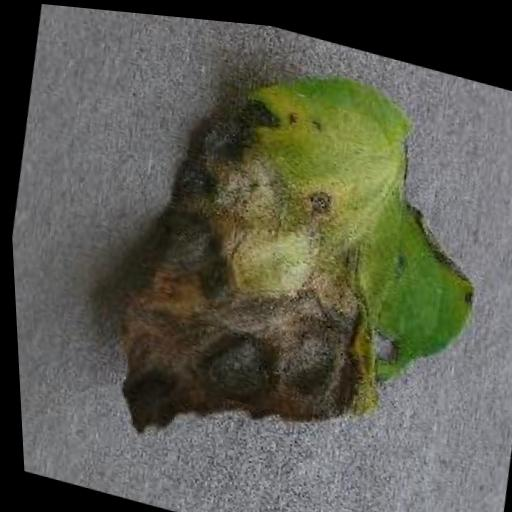Early Blight: (84, 14, 512, 512)
